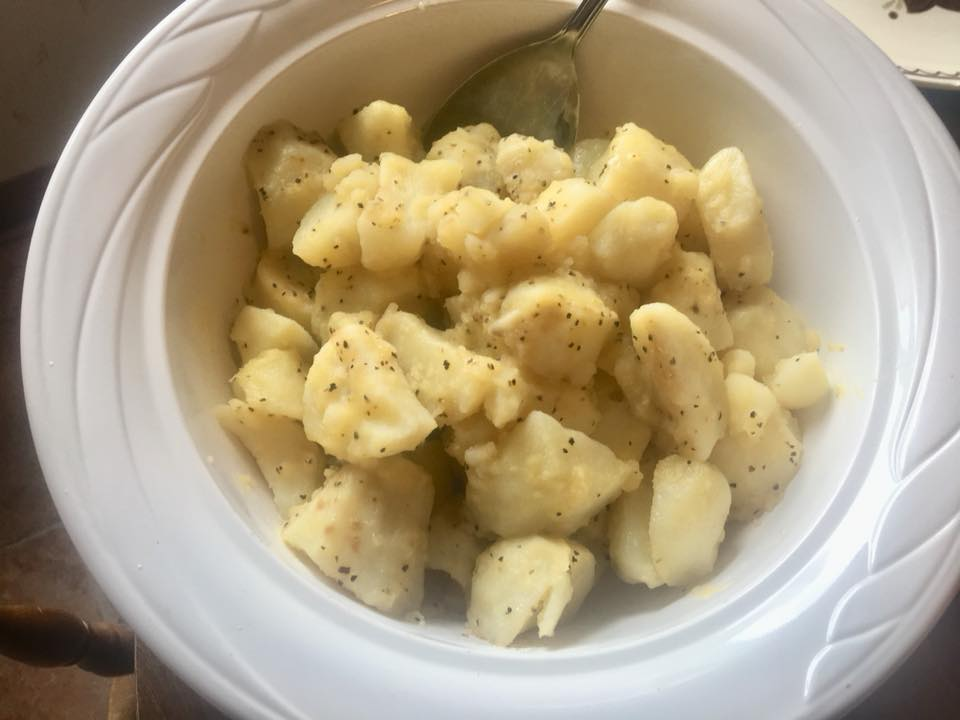boiled potatoes: (326, 176, 755, 569)
